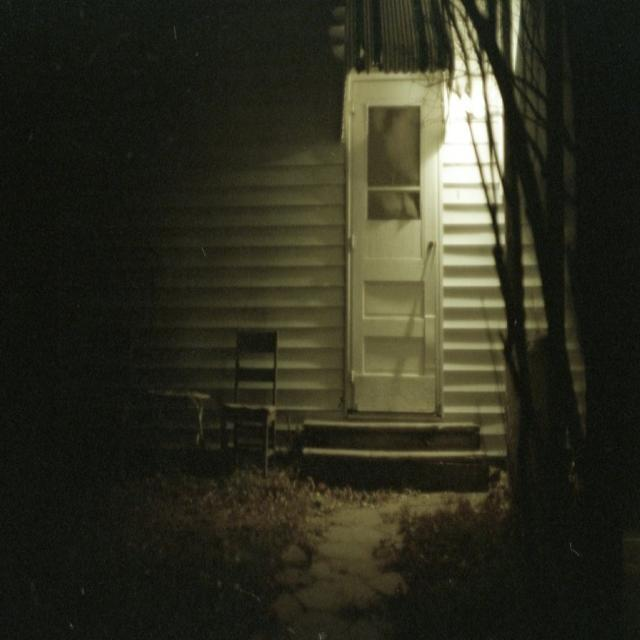door: (346, 69, 438, 419)
